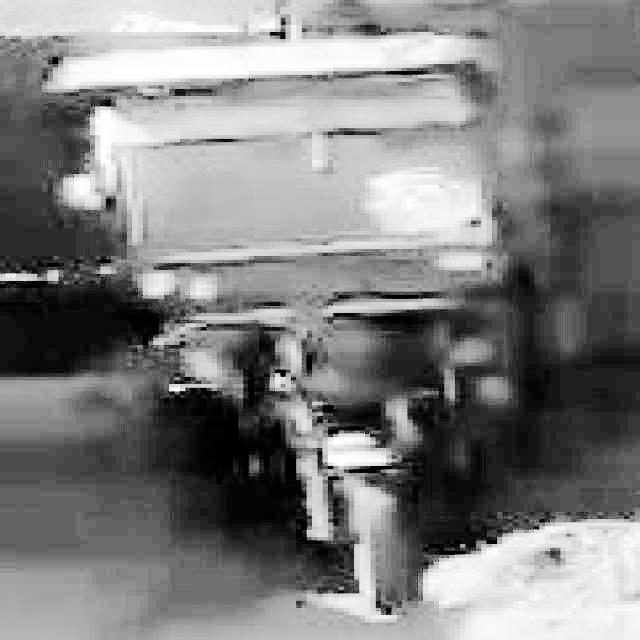Toto: (31, 33, 556, 617)
